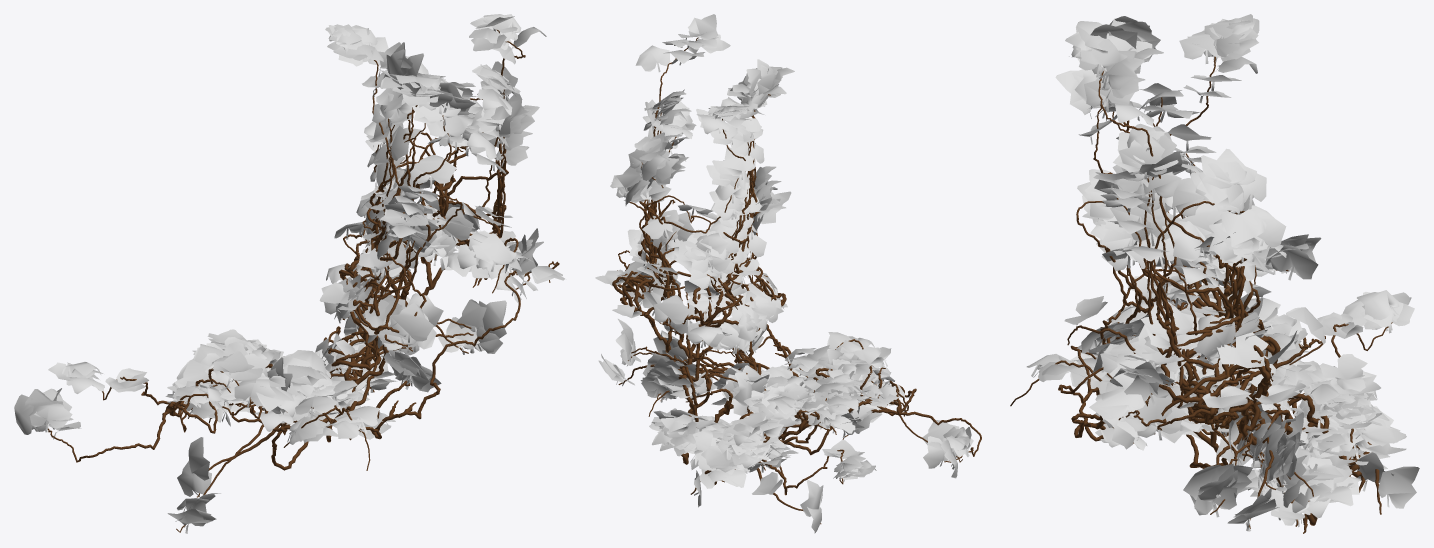
File: garden_pillar_ivy_04.fbx
The picture shows the model from 3 angles, left to right: view 1: azimuth 30°, elevation 25°; view 2: azimuth 150°, elevation 25°; view 3: azimuth 270°, elevation 25°; orthographic projection. The views are drawn at different scales.
Visible parts, largest first — view 1: IVY_Curve.002; view 2: IVY_Curve.002; view 3: IVY_Curve.002.
Part boxes in pixels (<box>): IVY_Curve.002: <box>14,14,564,533</box>; IVY_Curve.002: <box>595,14,981,533</box>; IVY_Curve.002: <box>1010,14,1419,533</box>.
Size of the model in its own units: 7.37 by 7.37 by 4.61.
